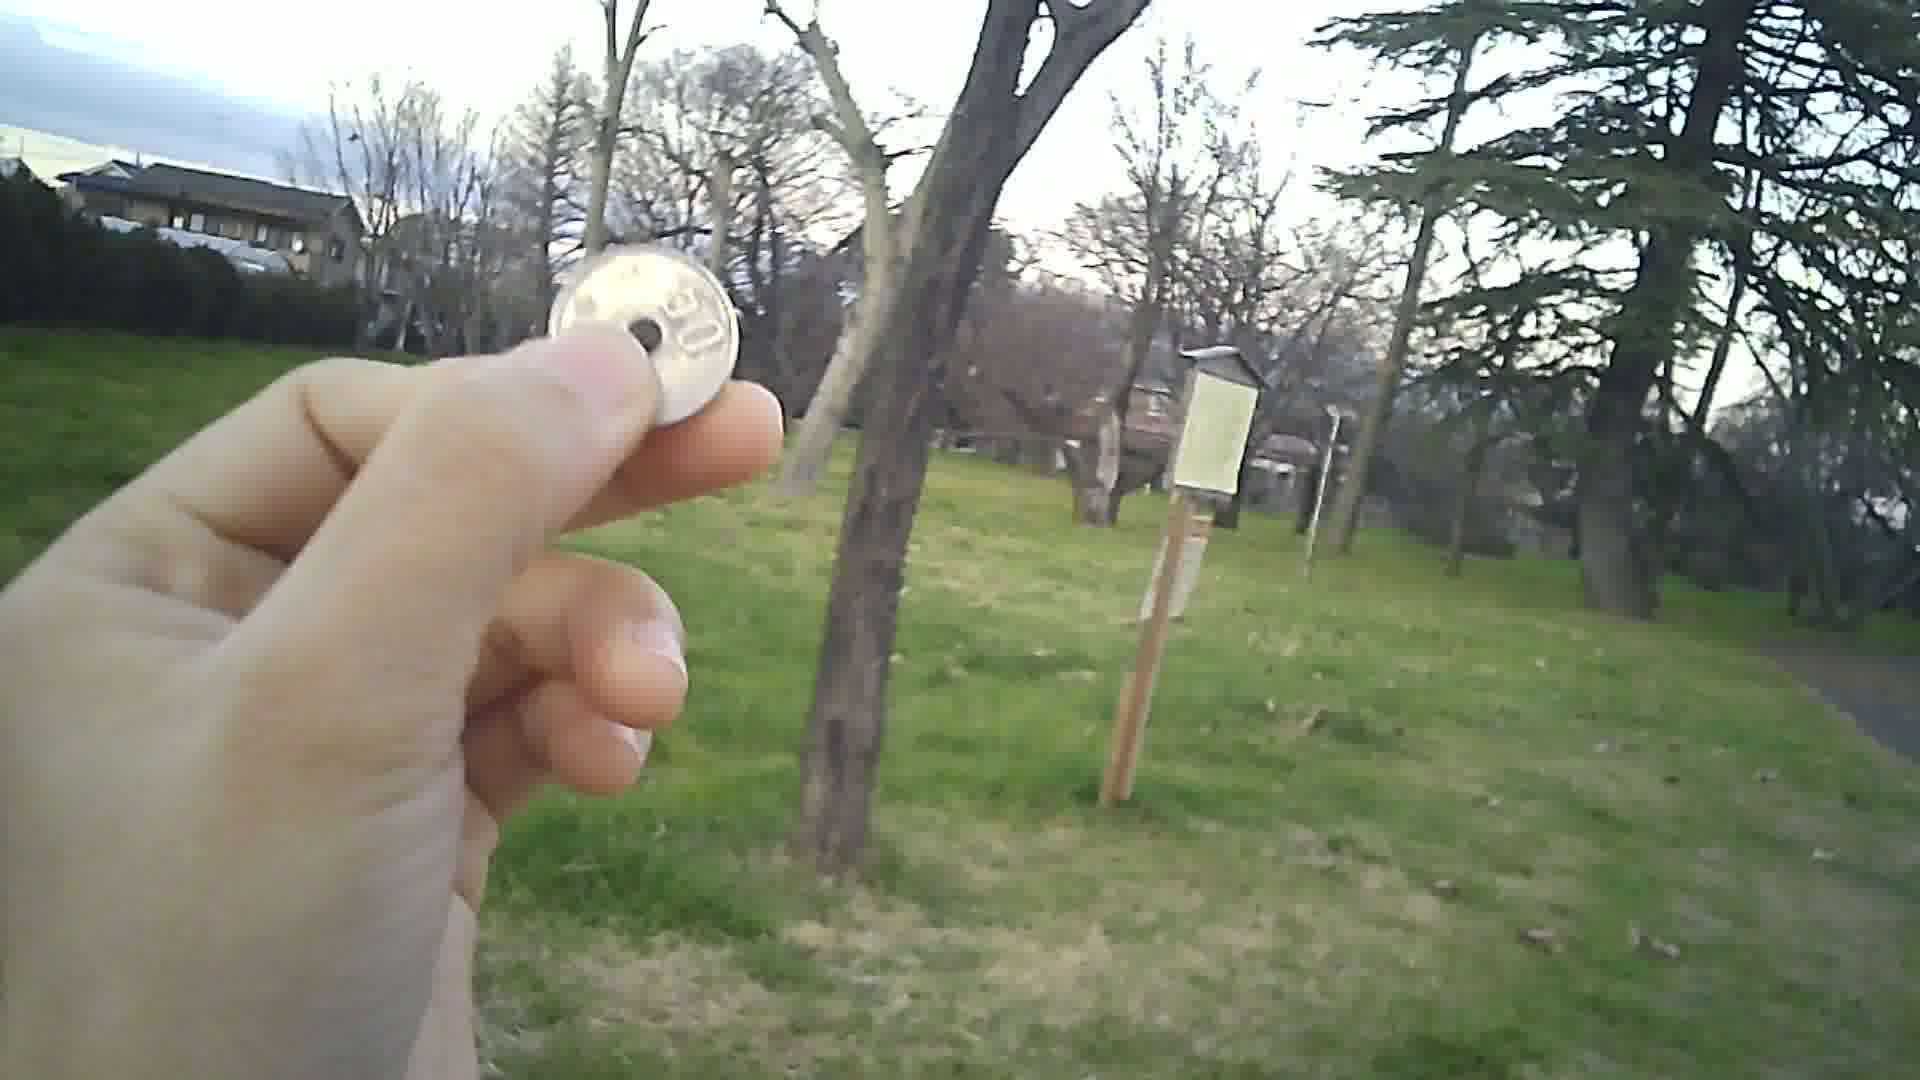50 Yen: (549, 243, 752, 430)
